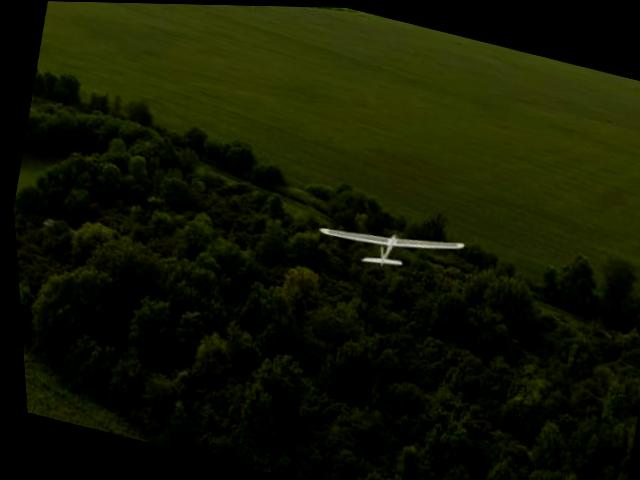uav: (300, 191, 475, 295)
